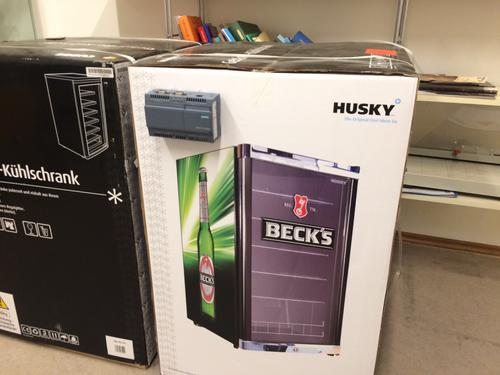iot2000: (144, 88, 223, 145)
